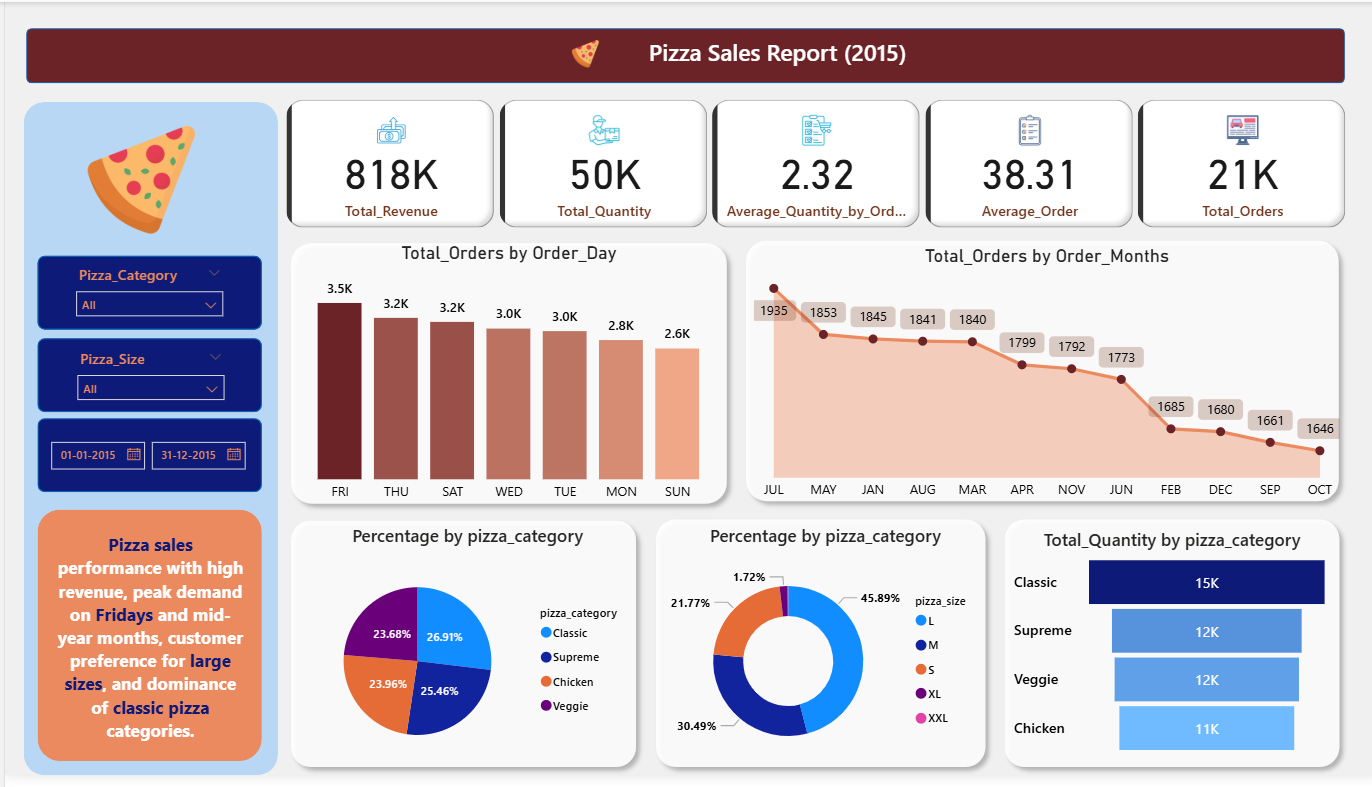

This screenshot's page, from the dashboard's own definition file:
{"tool":"powerbi","page":{"name":"Pizza","canvas":[1280,720],"ordinal":0},"visuals":[{"type":"shape","box":[596,471.7,324.5,248.5],"z":0},{"type":"shape","box":[257,472.9,339,247.3],"z":1000},{"type":"shape","box":[680.4,212.3,569.4,260.6],"z":2000},{"type":"shape","box":[19.8,24.4,1226.7,51.2],"z":3000},{"type":"cardVisual","fields":{"Data":["pizza_sales.Total_Revenue","pizza_sales.Total_Quantity","pizza_sales.Average_Quantity_by_Ordervales","pizza_sales.Average_Order","pizza_sales.Total_Orders"]},"box":[257,85.7,998.9,129.1],"z":4000},{"type":"textbox","box":[493,24.4,400,68.6],"z":5000},{"type":"image","box":[480.2,30.2,118.6,36],"z":6000},{"type":"shape","box":[257,214.7,423.5,260.6],"z":7000},{"type":"columnChart","fields":{"Category":["pizza_sales.Order_Day"],"Y":["pizza_sales.Total_Orders"]},"box":[265.4,223.2,407.8,250.9],"z":8000},{"type":"lineChart","fields":{"Category":["pizza_sales.Order_Months"],"Y":["pizza_sales.Total_Orders"]},"box":[691.3,225.6,555,246.1],"z":9000},{"type":"pieChart","title":"Percentage by pizza_category","fields":{"Y":["pizza_sales.Total_Revenue"],"Category":["pizza_sales.pizza_category"]},"box":[265.4,485,330.6,235.3],"z":10000},{"type":"donutChart","title":"Percentage by pizza_category","fields":{"Y":["pizza_sales.Total_Revenue"],"Category":["pizza_sales.pizza_size"]},"box":[605.6,485,314.9,235.3],"z":11000},{"type":"shape","box":[920.5,471.7,329.4,248.5],"z":12000},{"type":"funnel","fields":{"Category":["pizza_sales.pizza_category"],"Y":["pizza_sales.Total_Quantity"]},"box":[933.8,488.6,304,217.2],"z":13000},{"type":"shape","box":[16.9,92.9,236.5,626.1],"z":14000},{"type":"shape","box":[30.2,236.5,208.7,68.8],"z":15000},{"type":"slicer","fields":{"Values":["pizza_sales.pizza_category"]},"box":[55.5,240.1,156.8,59.1],"z":16000},{"type":"image","box":[0,108.6,253.4,114.6],"z":17000},{"type":"shape","box":[30.2,312.5,208.7,68.8],"z":18000},{"type":"slicer","fields":{"Values":["pizza_sales.pizza_size"]},"box":[56.7,317.3,156.8,59.1],"z":19000},{"type":"shape","box":[30.2,387.3,208.7,68.8],"z":20000},{"type":"slicer","fields":{"Values":["pizza_sales.order_date"]},"box":[30.2,399.3,208.7,53.1],"z":21000},{"type":"shape","box":[30.2,471.7,208.7,234],"z":22000},{"type":"textbox","box":[43.4,488.6,184.6,217.2],"z":23000}]}

Visuals, with their boxes in screenshot pixels (x1, y1, x2, y2), scaled from the page's 1280x720 canvas onto the 1372x787 screenshot:
shape: <region>639, 516, 987, 786</region>
shape: <region>275, 517, 639, 786</region>
shape: <region>729, 232, 1340, 517</region>
shape: <region>21, 27, 1336, 83</region>
cardVisual - pizza_sales.Total_Revenue x pizza_sales.Total_Quantity: <region>275, 94, 1346, 235</region>
textbox: <region>528, 27, 957, 102</region>
image: <region>515, 33, 642, 72</region>
shape: <region>275, 235, 729, 520</region>
columnChart - pizza_sales.Order_Day x pizza_sales.Total_Orders: <region>284, 244, 722, 518</region>
lineChart - pizza_sales.Order_Months x pizza_sales.Total_Orders: <region>741, 247, 1336, 516</region>
"Percentage by pizza_category" pieChart: <region>284, 530, 639, 786</region>
"Percentage by pizza_category" donutChart: <region>649, 530, 987, 786</region>
shape: <region>987, 516, 1340, 786</region>
funnel - pizza_sales.pizza_category x pizza_sales.Total_Quantity: <region>1001, 534, 1327, 771</region>
shape: <region>18, 102, 272, 786</region>
shape: <region>32, 259, 256, 334</region>
slicer - pizza_sales.pizza_category: <region>59, 262, 228, 327</region>
image: <region>0, 119, 272, 244</region>
shape: <region>32, 342, 256, 417</region>
slicer - pizza_sales.pizza_size: <region>61, 347, 229, 411</region>
shape: <region>32, 423, 256, 499</region>
slicer - pizza_sales.order_date: <region>32, 436, 256, 494</region>
shape: <region>32, 516, 256, 771</region>
textbox: <region>47, 534, 244, 771</region>
